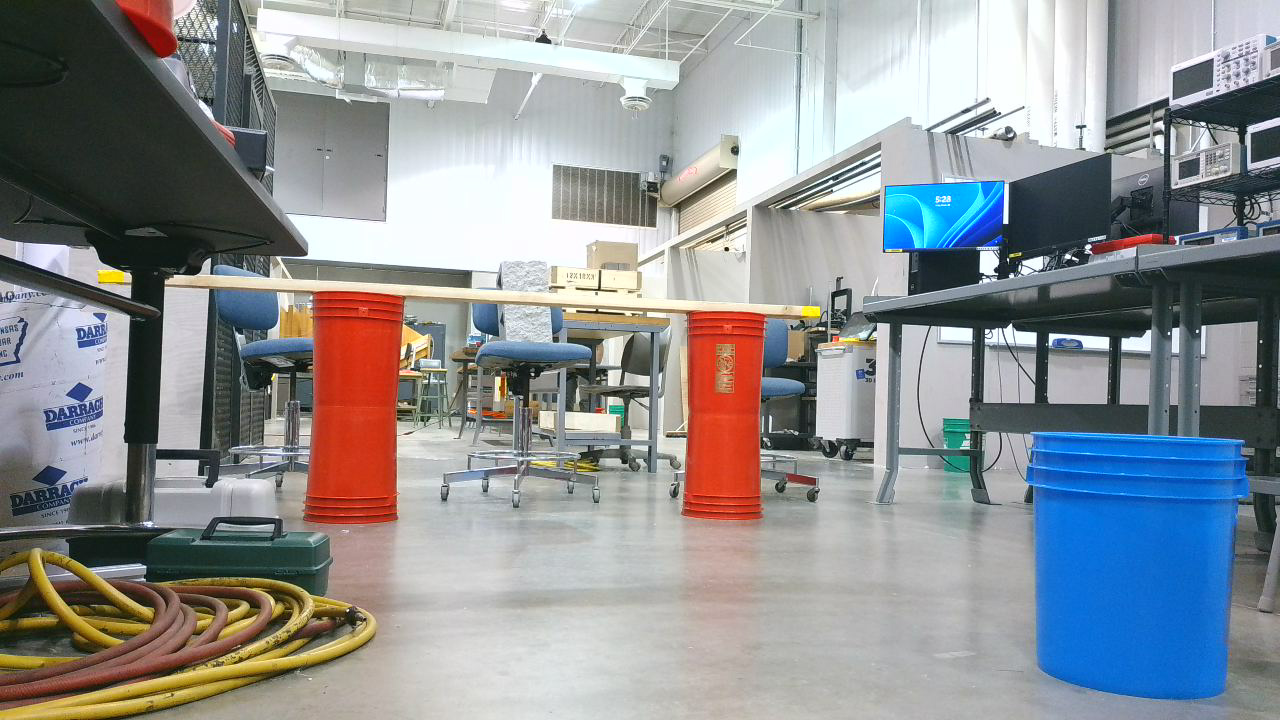blue_bucket: (1028, 433, 1258, 708)
red_bucket_arch: (300, 289, 782, 534)
